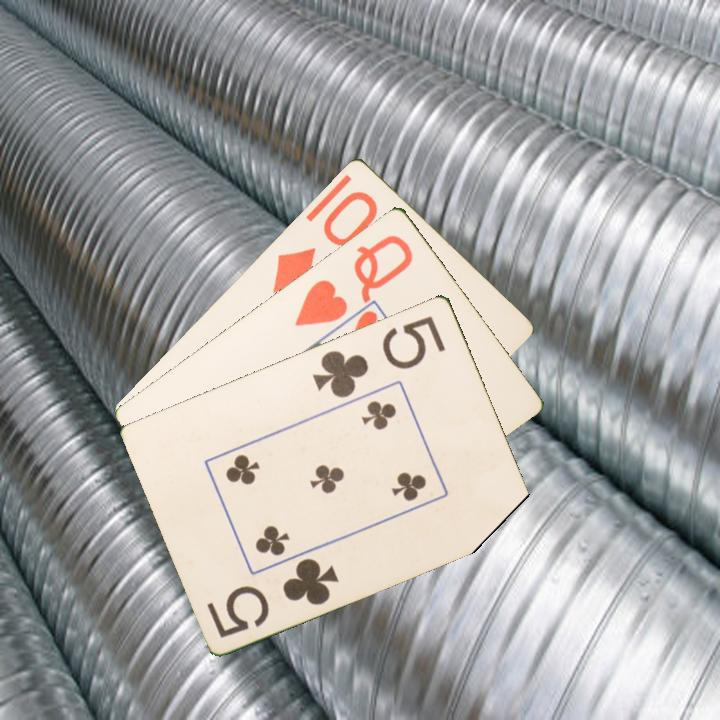10d: (268, 186, 381, 296)
5c: (309, 311, 449, 401), (203, 554, 342, 641)
Qh: (291, 230, 416, 329)
